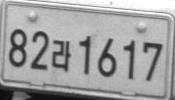1: (76, 35, 95, 75), (120, 39, 139, 79)
2: (29, 29, 49, 70)
6: (97, 37, 117, 78)
7: (142, 41, 163, 81)
8: (8, 27, 27, 67)
라: (51, 39, 72, 72)
